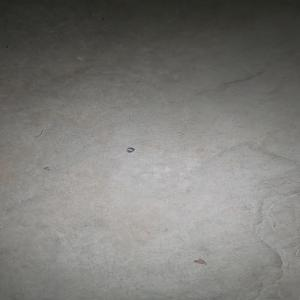Nut: (125, 146, 134, 152)
